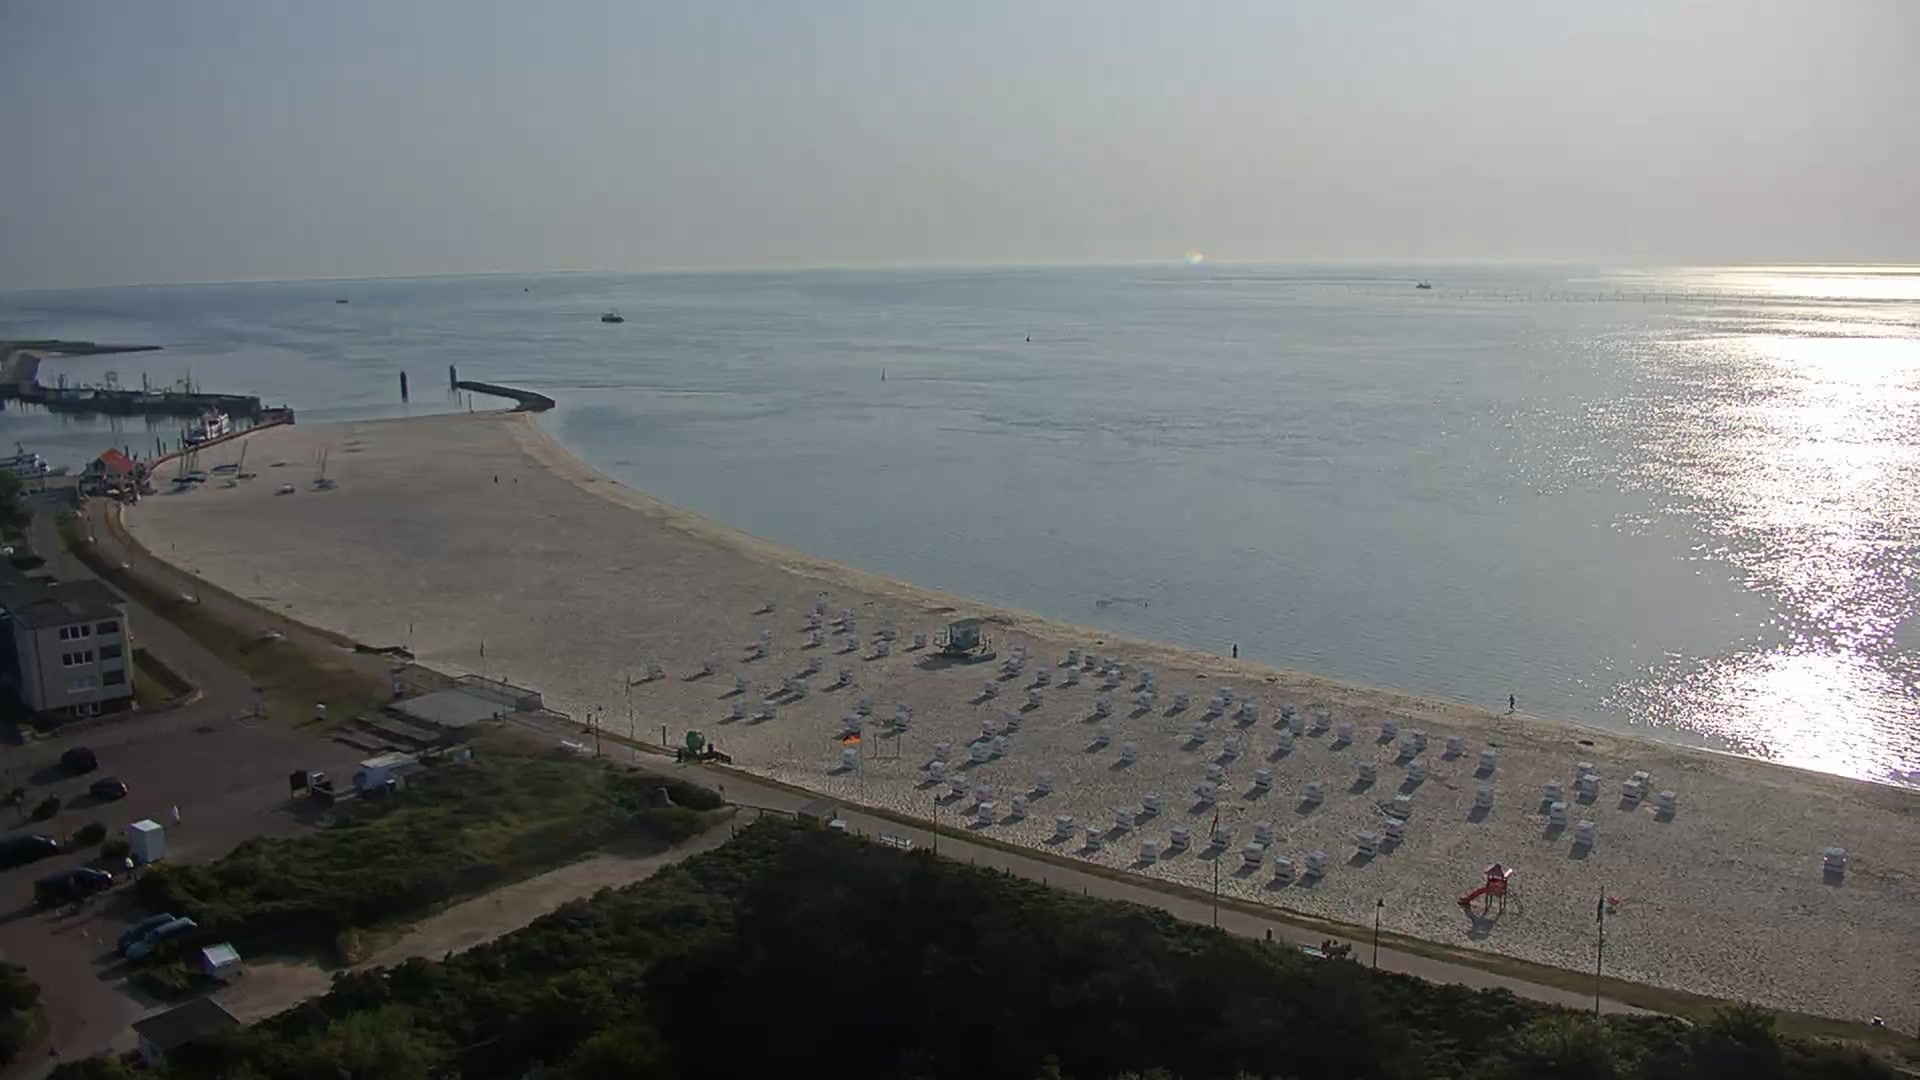human: (124, 853, 134, 880), (170, 802, 181, 824), (1507, 692, 1515, 712), (1232, 643, 1238, 657), (676, 748, 682, 763)
land: (33, 862, 113, 909), (122, 917, 198, 965), (116, 911, 176, 950), (1, 830, 56, 866), (60, 744, 98, 770), (88, 774, 127, 799)
sea: (49, 371, 177, 410), (1, 440, 71, 480), (182, 403, 233, 445), (172, 440, 207, 483), (311, 445, 338, 489), (234, 437, 257, 480), (171, 450, 194, 493), (961, 641, 997, 661), (598, 307, 623, 323), (1413, 279, 1432, 288), (335, 297, 349, 304), (881, 367, 887, 380)
